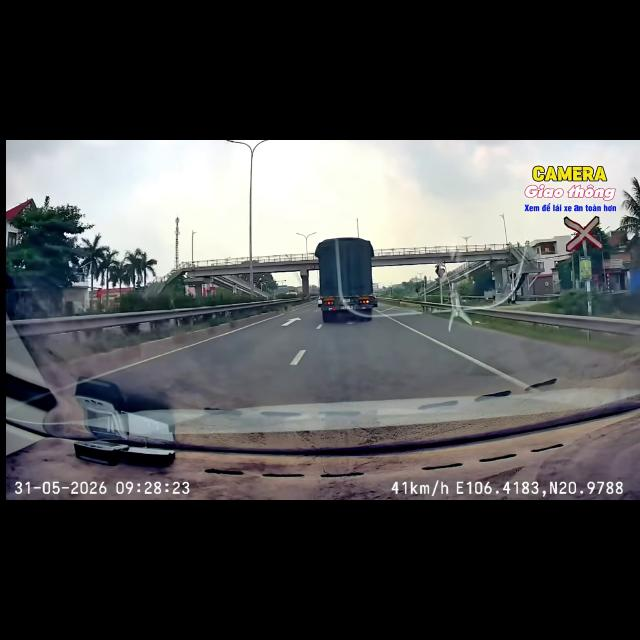truck: (315, 238, 377, 322)
